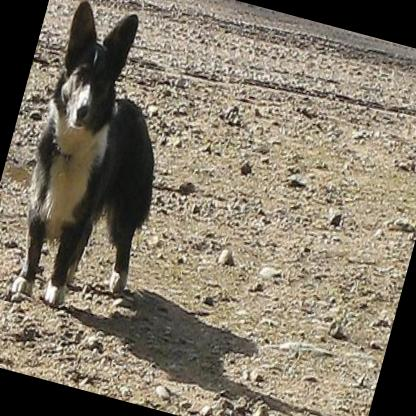Cardigan: (0, 0, 197, 320)
